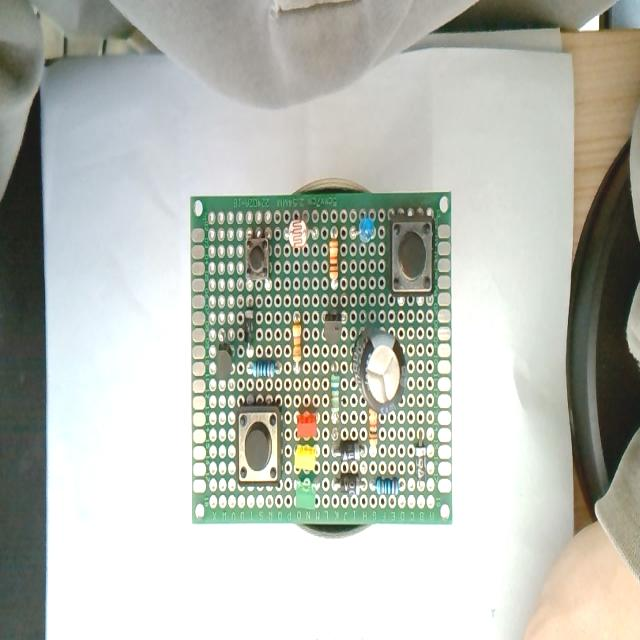Electrolytic capacitor: (353, 324, 407, 414)
cds: (282, 216, 316, 253)
diode: (411, 432, 429, 490), (240, 310, 254, 354), (336, 441, 364, 462), (338, 474, 362, 497)
led: (291, 471, 318, 513), (295, 411, 319, 443), (350, 214, 374, 244), (294, 446, 316, 472)
resistor: (247, 359, 279, 378), (370, 476, 400, 496), (292, 320, 302, 370), (330, 374, 340, 422), (329, 238, 339, 284), (369, 410, 378, 450)
switch: (236, 405, 282, 486), (389, 216, 434, 296), (246, 232, 270, 282)
transistor: (214, 317, 234, 381), (320, 299, 344, 349)
